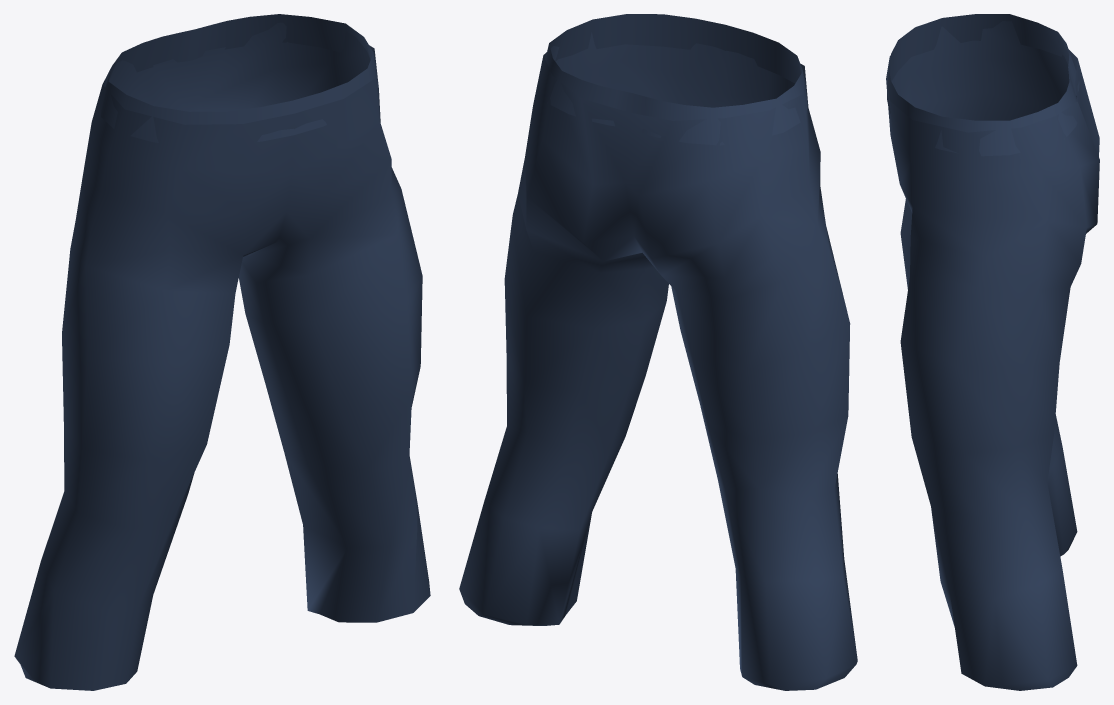
File: shorts.glb
3 views of the same model, side by side, from view 1: azimuth 30°, elevation 25°; view 2: azimuth 150°, elevation 25°; view 3: azimuth 270°, elevation 25° (orthographic). The views are drawn at different scales.
Parts seen in each view (by area): view 1: shorts; view 2: shorts; view 3: shorts.
Part boxes in pixels (x1,y1,x2,y2): shorts: (14, 14, 430, 690); shorts: (459, 14, 857, 690); shorts: (886, 14, 1099, 690).
Bounding box in the file's own units: 0.4885 × 0.6962 × 0.2479.
